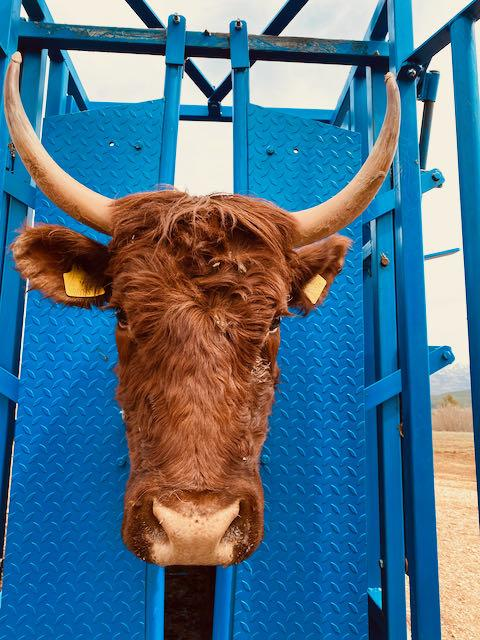muzzles: (113, 487, 268, 576)
